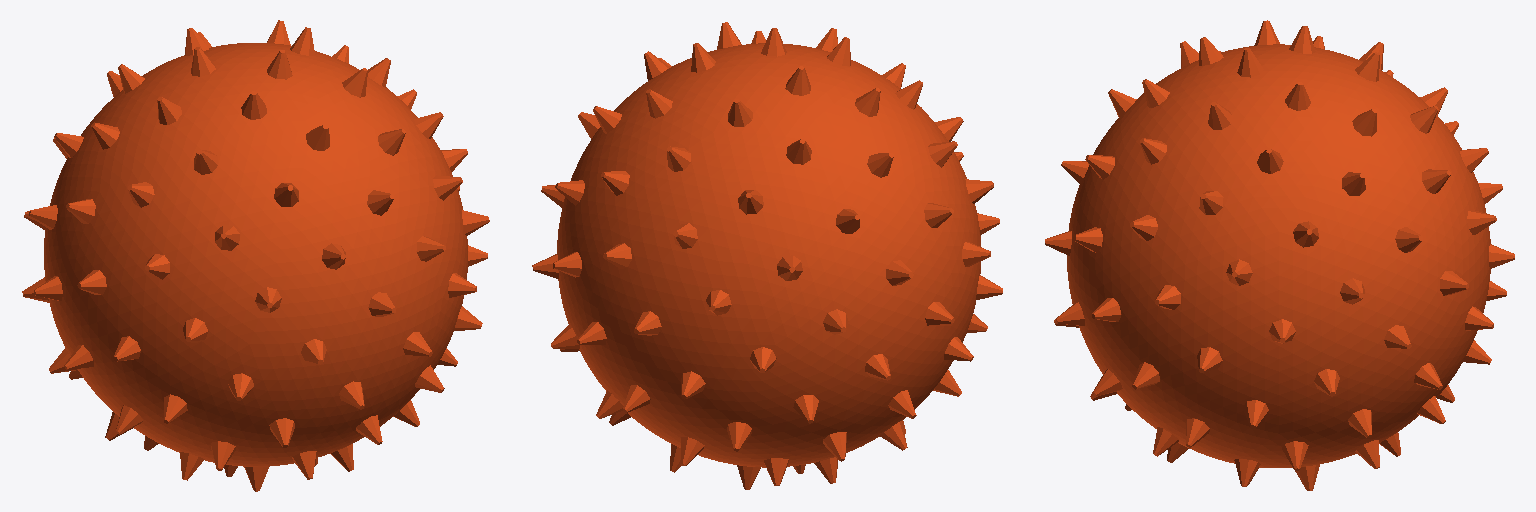
The robot description file, URDF, robot "cb_spikyball_spiky":
<?xml version="1.0"?>
<!-- A22 textured ball (frustum, 96 features, h 2.5 mm), outer R 24.0 mm, 30.0 g. Generated by FoundationTouch tools/contactbench/spikyball_assets.py (A22) -->
<robot name="cb_spikyball_spiky">
  <material name="c"><color rgba="0.85 0.35 0.15 1.0"/></material>
  <link name="object">
    <visual><origin xyz="0 0 0" rpy="0 0 0"/><geometry><mesh filename="spikyball_spiky.obj" scale="1 1 1"/></geometry><material name="c"/></visual>
    <collision><origin xyz="0 0 0" rpy="0 0 0"/><geometry><sphere radius="0.021500"/></geometry></collision>
    <collision><origin xyz="0 0 0" rpy="0 0 0"/><geometry><mesh filename="spike_000.obj" scale="1 1 1"/></geometry></collision>
    <collision><origin xyz="0 0 0" rpy="0 0 0"/><geometry><mesh filename="spike_001.obj" scale="1 1 1"/></geometry></collision>
    <collision><origin xyz="0 0 0" rpy="0 0 0"/><geometry><mesh filename="spike_002.obj" scale="1 1 1"/></geometry></collision>
    <collision><origin xyz="0 0 0" rpy="0 0 0"/><geometry><mesh filename="spike_003.obj" scale="1 1 1"/></geometry></collision>
    <collision><origin xyz="0 0 0" rpy="0 0 0"/><geometry><mesh filename="spike_004.obj" scale="1 1 1"/></geometry></collision>
    <collision><origin xyz="0 0 0" rpy="0 0 0"/><geometry><mesh filename="spike_005.obj" scale="1 1 1"/></geometry></collision>
    <collision><origin xyz="0 0 0" rpy="0 0 0"/><geometry><mesh filename="spike_006.obj" scale="1 1 1"/></geometry></collision>
    <collision><origin xyz="0 0 0" rpy="0 0 0"/><geometry><mesh filename="spike_007.obj" scale="1 1 1"/></geometry></collision>
    <collision><origin xyz="0 0 0" rpy="0 0 0"/><geometry><mesh filename="spike_008.obj" scale="1 1 1"/></geometry></collision>
    <collision><origin xyz="0 0 0" rpy="0 0 0"/><geometry><mesh filename="spike_009.obj" scale="1 1 1"/></geometry></collision>
    <collision><origin xyz="0 0 0" rpy="0 0 0"/><geometry><mesh filename="spike_010.obj" scale="1 1 1"/></geometry></collision>
    <collision><origin xyz="0 0 0" rpy="0 0 0"/><geometry><mesh filename="spike_011.obj" scale="1 1 1"/></geometry></collision>
    <collision><origin xyz="0 0 0" rpy="0 0 0"/><geometry><mesh filename="spike_012.obj" scale="1 1 1"/></geometry></collision>
    <collision><origin xyz="0 0 0" rpy="0 0 0"/><geometry><mesh filename="spike_013.obj" scale="1 1 1"/></geometry></collision>
    <collision><origin xyz="0 0 0" rpy="0 0 0"/><geometry><mesh filename="spike_014.obj" scale="1 1 1"/></geometry></collision>
    <collision><origin xyz="0 0 0" rpy="0 0 0"/><geometry><mesh filename="spike_015.obj" scale="1 1 1"/></geometry></collision>
    <collision><origin xyz="0 0 0" rpy="0 0 0"/><geometry><mesh filename="spike_016.obj" scale="1 1 1"/></geometry></collision>
    <collision><origin xyz="0 0 0" rpy="0 0 0"/><geometry><mesh filename="spike_017.obj" scale="1 1 1"/></geometry></collision>
    <collision><origin xyz="0 0 0" rpy="0 0 0"/><geometry><mesh filename="spike_018.obj" scale="1 1 1"/></geometry></collision>
    <collision><origin xyz="0 0 0" rpy="0 0 0"/><geometry><mesh filename="spike_019.obj" scale="1 1 1"/></geometry></collision>
    <collision><origin xyz="0 0 0" rpy="0 0 0"/><geometry><mesh filename="spike_020.obj" scale="1 1 1"/></geometry></collision>
    <collision><origin xyz="0 0 0" rpy="0 0 0"/><geometry><mesh filename="spike_021.obj" scale="1 1 1"/></geometry></collision>
    <collision><origin xyz="0 0 0" rpy="0 0 0"/><geometry><mesh filename="spike_022.obj" scale="1 1 1"/></geometry></collision>
    <collision><origin xyz="0 0 0" rpy="0 0 0"/><geometry><mesh filename="spike_023.obj" scale="1 1 1"/></geometry></collision>
    <collision><origin xyz="0 0 0" rpy="0 0 0"/><geometry><mesh filename="spike_024.obj" scale="1 1 1"/></geometry></collision>
    <collision><origin xyz="0 0 0" rpy="0 0 0"/><geometry><mesh filename="spike_025.obj" scale="1 1 1"/></geometry></collision>
    <collision><origin xyz="0 0 0" rpy="0 0 0"/><geometry><mesh filename="spike_026.obj" scale="1 1 1"/></geometry></collision>
    <collision><origin xyz="0 0 0" rpy="0 0 0"/><geometry><mesh filename="spike_027.obj" scale="1 1 1"/></geometry></collision>
    <collision><origin xyz="0 0 0" rpy="0 0 0"/><geometry><mesh filename="spike_028.obj" scale="1 1 1"/></geometry></collision>
    <collision><origin xyz="0 0 0" rpy="0 0 0"/><geometry><mesh filename="spike_029.obj" scale="1 1 1"/></geometry></collision>
    <collision><origin xyz="0 0 0" rpy="0 0 0"/><geometry><mesh filename="spike_030.obj" scale="1 1 1"/></geometry></collision>
    <collision><origin xyz="0 0 0" rpy="0 0 0"/><geometry><mesh filename="spike_031.obj" scale="1 1 1"/></geometry></collision>
    <collision><origin xyz="0 0 0" rpy="0 0 0"/><geometry><mesh filename="spike_032.obj" scale="1 1 1"/></geometry></collision>
    <collision><origin xyz="0 0 0" rpy="0 0 0"/><geometry><mesh filename="spike_033.obj" scale="1 1 1"/></geometry></collision>
    <collision><origin xyz="0 0 0" rpy="0 0 0"/><geometry><mesh filename="spike_034.obj" scale="1 1 1"/></geometry></collision>
    <collision><origin xyz="0 0 0" rpy="0 0 0"/><geometry><mesh filename="spike_035.obj" scale="1 1 1"/></geometry></collision>
    <collision><origin xyz="0 0 0" rpy="0 0 0"/><geometry><mesh filename="spike_036.obj" scale="1 1 1"/></geometry></collision>
    <collision><origin xyz="0 0 0" rpy="0 0 0"/><geometry><mesh filename="spike_037.obj" scale="1 1 1"/></geometry></collision>
    <collision><origin xyz="0 0 0" rpy="0 0 0"/><geometry><mesh filename="spike_038.obj" scale="1 1 1"/></geometry></collision>
    <collision><origin xyz="0 0 0" rpy="0 0 0"/><geometry><mesh filename="spike_039.obj" scale="1 1 1"/></geometry></collision>
    <collision><origin xyz="0 0 0" rpy="0 0 0"/><geometry><mesh filename="spike_040.obj" scale="1 1 1"/></geometry></collision>
    <collision><origin xyz="0 0 0" rpy="0 0 0"/><geometry><mesh filename="spike_041.obj" scale="1 1 1"/></geometry></collision>
    <collision><origin xyz="0 0 0" rpy="0 0 0"/><geometry><mesh filename="spike_042.obj" scale="1 1 1"/></geometry></collision>
    <collision><origin xyz="0 0 0" rpy="0 0 0"/><geometry><mesh filename="spike_043.obj" scale="1 1 1"/></geometry></collision>
    <collision><origin xyz="0 0 0" rpy="0 0 0"/><geometry><mesh filename="spike_044.obj" scale="1 1 1"/></geometry></collision>
    <collision><origin xyz="0 0 0" rpy="0 0 0"/><geometry><mesh filename="spike_045.obj" scale="1 1 1"/></geometry></collision>
    <collision><origin xyz="0 0 0" rpy="0 0 0"/><geometry><mesh filename="spike_046.obj" scale="1 1 1"/></geometry></collision>
    <collision><origin xyz="0 0 0" rpy="0 0 0"/><geometry><mesh filename="spike_047.obj" scale="1 1 1"/></geometry></collision>
    <collision><origin xyz="0 0 0" rpy="0 0 0"/><geometry><mesh filename="spike_048.obj" scale="1 1 1"/></geometry></collision>
    <collision><origin xyz="0 0 0" rpy="0 0 0"/><geometry><mesh filename="spike_049.obj" scale="1 1 1"/></geometry></collision>
    <collision><origin xyz="0 0 0" rpy="0 0 0"/><geometry><mesh filename="spike_050.obj" scale="1 1 1"/></geometry></collision>
    <collision><origin xyz="0 0 0" rpy="0 0 0"/><geometry><mesh filename="spike_051.obj" scale="1 1 1"/></geometry></collision>
    <collision><origin xyz="0 0 0" rpy="0 0 0"/><geometry><mesh filename="spike_052.obj" scale="1 1 1"/></geometry></collision>
    <collision><origin xyz="0 0 0" rpy="0 0 0"/><geometry><mesh filename="spike_053.obj" scale="1 1 1"/></geometry></collision>
    <collision><origin xyz="0 0 0" rpy="0 0 0"/><geometry><mesh filename="spike_054.obj" scale="1 1 1"/></geometry></collision>
    <collision><origin xyz="0 0 0" rpy="0 0 0"/><geometry><mesh filename="spike_055.obj" scale="1 1 1"/></geometry></collision>
    <collision><origin xyz="0 0 0" rpy="0 0 0"/><geometry><mesh filename="spike_056.obj" scale="1 1 1"/></geometry></collision>
    <collision><origin xyz="0 0 0" rpy="0 0 0"/><geometry><mesh filename="spike_057.obj" scale="1 1 1"/></geometry></collision>
    <collision><origin xyz="0 0 0" rpy="0 0 0"/><geometry><mesh filename="spike_058.obj" scale="1 1 1"/></geometry></collision>
    <collision><origin xyz="0 0 0" rpy="0 0 0"/><geometry><mesh filename="spike_059.obj" scale="1 1 1"/></geometry></collision>
    <collision><origin xyz="0 0 0" rpy="0 0 0"/><geometry><mesh filename="spike_060.obj" scale="1 1 1"/></geometry></collision>
    <collision><origin xyz="0 0 0" rpy="0 0 0"/><geometry><mesh filename="spike_061.obj" scale="1 1 1"/></geometry></collision>
    <collision><origin xyz="0 0 0" rpy="0 0 0"/><geometry><mesh filename="spike_062.obj" scale="1 1 1"/></geometry></collision>
    <collision><origin xyz="0 0 0" rpy="0 0 0"/><geometry><mesh filename="spike_063.obj" scale="1 1 1"/></geometry></collision>
    <collision><origin xyz="0 0 0" rpy="0 0 0"/><geometry><mesh filename="spike_064.obj" scale="1 1 1"/></geometry></collision>
    <collision><origin xyz="0 0 0" rpy="0 0 0"/><geometry><mesh filename="spike_065.obj" scale="1 1 1"/></geometry></collision>
    <collision><origin xyz="0 0 0" rpy="0 0 0"/><geometry><mesh filename="spike_066.obj" scale="1 1 1"/></geometry></collision>
    <collision><origin xyz="0 0 0" rpy="0 0 0"/><geometry><mesh filename="spike_067.obj" scale="1 1 1"/></geometry></collision>
    <collision><origin xyz="0 0 0" rpy="0 0 0"/><geometry><mesh filename="spike_068.obj" scale="1 1 1"/></geometry></collision>
    <collision><origin xyz="0 0 0" rpy="0 0 0"/><geometry><mesh filename="spike_069.obj" scale="1 1 1"/></geometry></collision>
    <collision><origin xyz="0 0 0" rpy="0 0 0"/><geometry><mesh filename="spike_070.obj" scale="1 1 1"/></geometry></collision>
    <collision><origin xyz="0 0 0" rpy="0 0 0"/><geometry><mesh filename="spike_071.obj" scale="1 1 1"/></geometry></collision>
    <collision><origin xyz="0 0 0" rpy="0 0 0"/><geometry><mesh filename="spike_072.obj" scale="1 1 1"/></geometry></collision>
    <collision><origin xyz="0 0 0" rpy="0 0 0"/><geometry><mesh filename="spike_073.obj" scale="1 1 1"/></geometry></collision>
    <collision><origin xyz="0 0 0" rpy="0 0 0"/><geometry><mesh filename="spike_074.obj" scale="1 1 1"/></geometry></collision>
    <collision><origin xyz="0 0 0" rpy="0 0 0"/><geometry><mesh filename="spike_075.obj" scale="1 1 1"/></geometry></collision>
    <collision><origin xyz="0 0 0" rpy="0 0 0"/><geometry><mesh filename="spike_076.obj" scale="1 1 1"/></geometry></collision>
    <collision><origin xyz="0 0 0" rpy="0 0 0"/><geometry><mesh filename="spike_077.obj" scale="1 1 1"/></geometry></collision>
    <collision><origin xyz="0 0 0" rpy="0 0 0"/><geometry><mesh filename="spike_078.obj" scale="1 1 1"/></geometry></collision>
    <collision><origin xyz="0 0 0" rpy="0 0 0"/><geometry><mesh filename="spike_079.obj" scale="1 1 1"/></geometry></collision>
    <collision><origin xyz="0 0 0" rpy="0 0 0"/><geometry><mesh filename="spike_080.obj" scale="1 1 1"/></geometry></collision>
    <collision><origin xyz="0 0 0" rpy="0 0 0"/><geometry><mesh filename="spike_081.obj" scale="1 1 1"/></geometry></collision>
    <collision><origin xyz="0 0 0" rpy="0 0 0"/><geometry><mesh filename="spike_082.obj" scale="1 1 1"/></geometry></collision>
    <collision><origin xyz="0 0 0" rpy="0 0 0"/><geometry><mesh filename="spike_083.obj" scale="1 1 1"/></geometry></collision>
    <collision><origin xyz="0 0 0" rpy="0 0 0"/><geometry><mesh filename="spike_084.obj" scale="1 1 1"/></geometry></collision>
    <collision><origin xyz="0 0 0" rpy="0 0 0"/><geometry><mesh filename="spike_085.obj" scale="1 1 1"/></geometry></collision>
    <collision><origin xyz="0 0 0" rpy="0 0 0"/><geometry><mesh filename="spike_086.obj" scale="1 1 1"/></geometry></collision>
    <collision><origin xyz="0 0 0" rpy="0 0 0"/><geometry><mesh filename="spike_087.obj" scale="1 1 1"/></geometry></collision>
    <collision><origin xyz="0 0 0" rpy="0 0 0"/><geometry><mesh filename="spike_088.obj" scale="1 1 1"/></geometry></collision>
    <collision><origin xyz="0 0 0" rpy="0 0 0"/><geometry><mesh filename="spike_089.obj" scale="1 1 1"/></geometry></collision>
    <collision><origin xyz="0 0 0" rpy="0 0 0"/><geometry><mesh filename="spike_090.obj" scale="1 1 1"/></geometry></collision>
    <collision><origin xyz="0 0 0" rpy="0 0 0"/><geometry><mesh filename="spike_091.obj" scale="1 1 1"/></geometry></collision>
    <collision><origin xyz="0 0 0" rpy="0 0 0"/><geometry><mesh filename="spike_092.obj" scale="1 1 1"/></geometry></collision>
    <collision><origin xyz="0 0 0" rpy="0 0 0"/><geometry><mesh filename="spike_093.obj" scale="1 1 1"/></geometry></collision>
    <collision><origin xyz="0 0 0" rpy="0 0 0"/><geometry><mesh filename="spike_094.obj" scale="1 1 1"/></geometry></collision>
    <collision><origin xyz="0 0 0" rpy="0 0 0"/><geometry><mesh filename="spike_095.obj" scale="1 1 1"/></geometry></collision>
    <inertial><mass value="0.030000"/><origin xyz="0 0 0" rpy="0 0 0"/><inertia ixx="6.912000e-06" ixy="0" ixz="0" iyy="6.912000e-06" iyz="0" izz="6.912000e-06"/></inertial>
  </link>
</robot>

--- Facts derived from the render (not from the file) ---
3 views of the same robot in one strip: view 1: azimuth 30°, elevation 25°; view 2: azimuth 150°, elevation 25°; view 3: azimuth 270°, elevation 25° (orthographic).
Model cb_spikyball_spiky with 1 links and 0 joints (none), rooted at object, posed all joints at 0.
Links seen in each view (by area): view 1: object; view 2: object; view 3: object.
Link boxes in pixels (<box>): object: <box>22,20,489,491</box>; object: <box>532,22,1002,489</box>; object: <box>1045,20,1514,490</box>.
Bounding box of the posed robot: 0.0477 × 0.0477 × 0.0476 m (x, y, z).
Meshes: 1 distinct files referenced, 1 mesh visuals loaded (1 OBJ).
